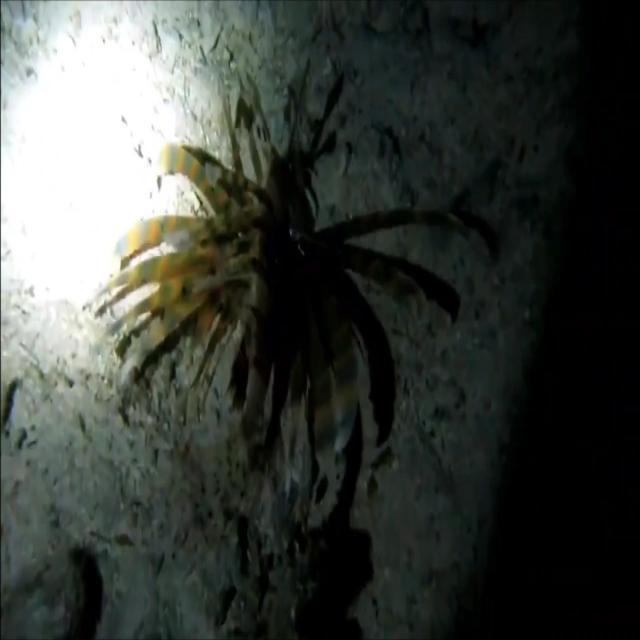Lionfish -Endangered- -Poisonous-: (108, 103, 418, 462)
